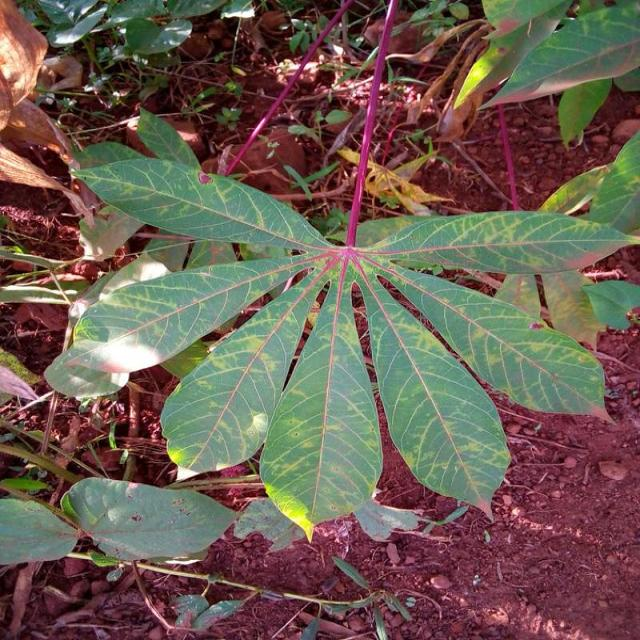cassava leaf: (45, 3, 638, 547), (362, 268, 512, 520), (259, 264, 384, 542), (62, 476, 238, 562)
